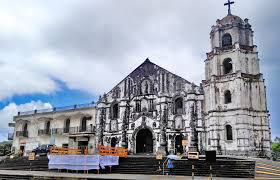daraga_church_daraga_albay: (95, 1, 272, 157)
